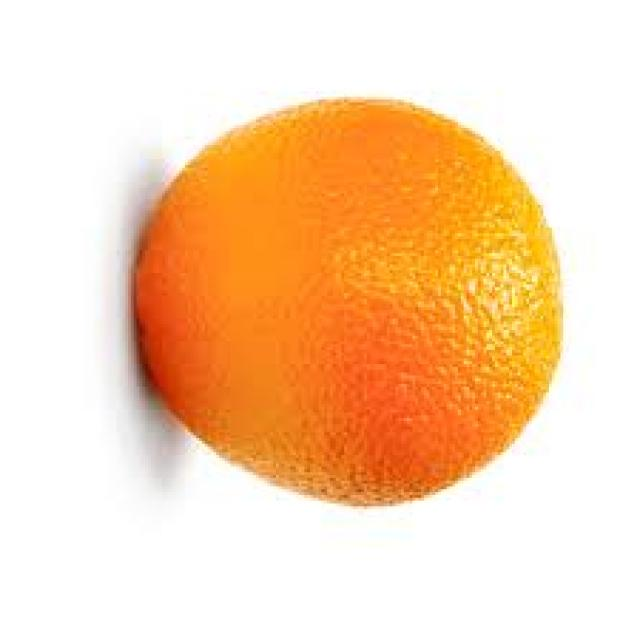Good_Orange: (128, 97, 563, 512)
